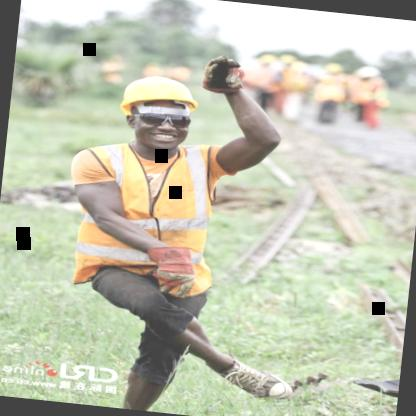helmet: (106, 66, 207, 156)
